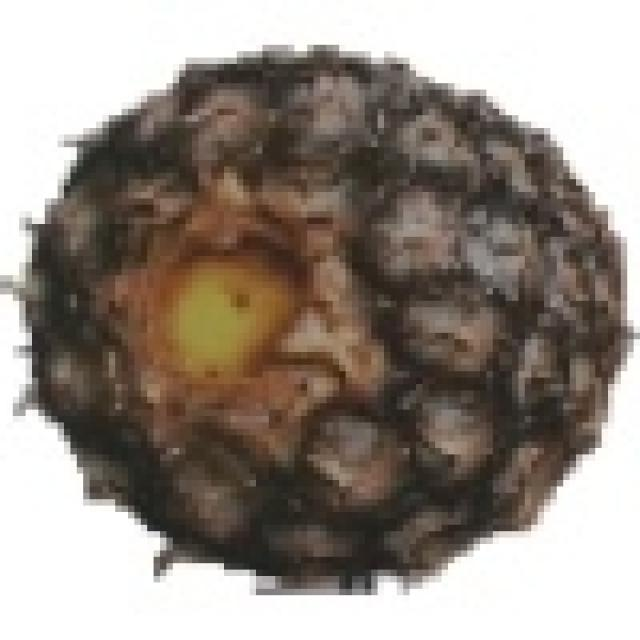pineapple: (38, 38, 634, 576)
